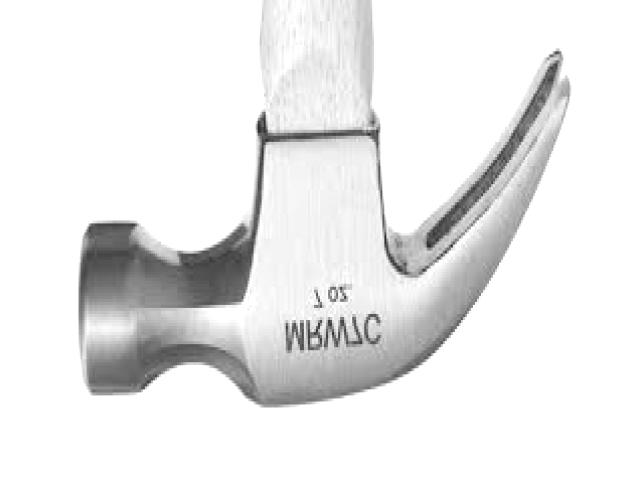Hammer: (79, 3, 570, 405)
